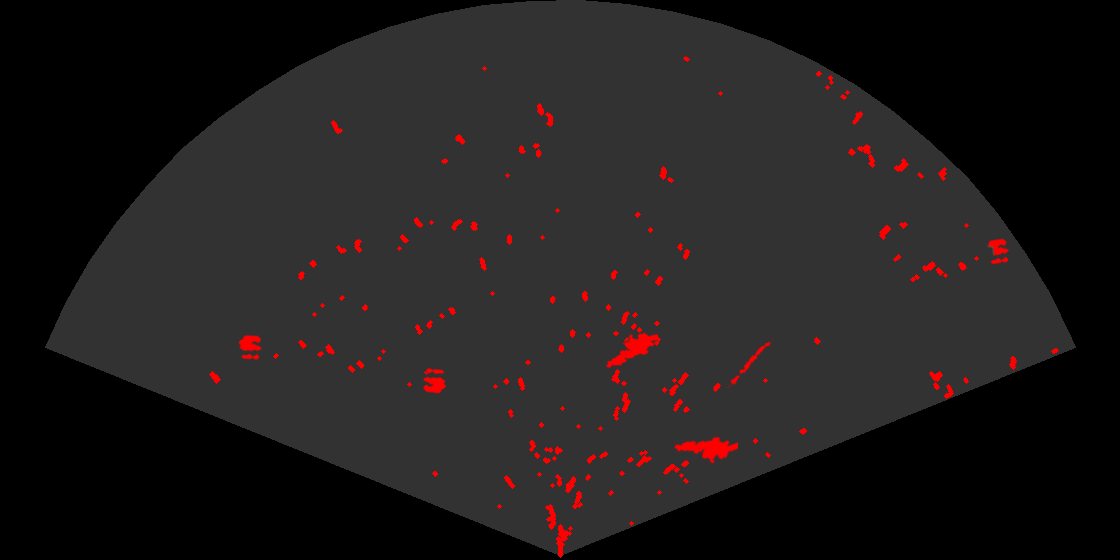ball: (237, 334, 264, 361), (421, 367, 447, 395), (986, 237, 1011, 266)
chain: (725, 335, 774, 388)
frogman: (604, 331, 658, 369), (672, 435, 738, 465)
